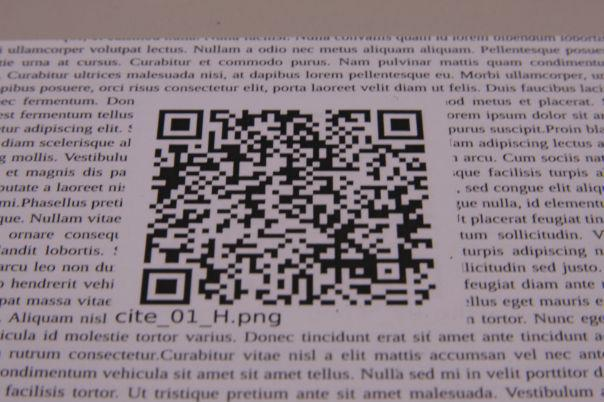Finder pattern: (137, 267, 194, 308), (376, 104, 428, 144), (156, 106, 206, 142)
